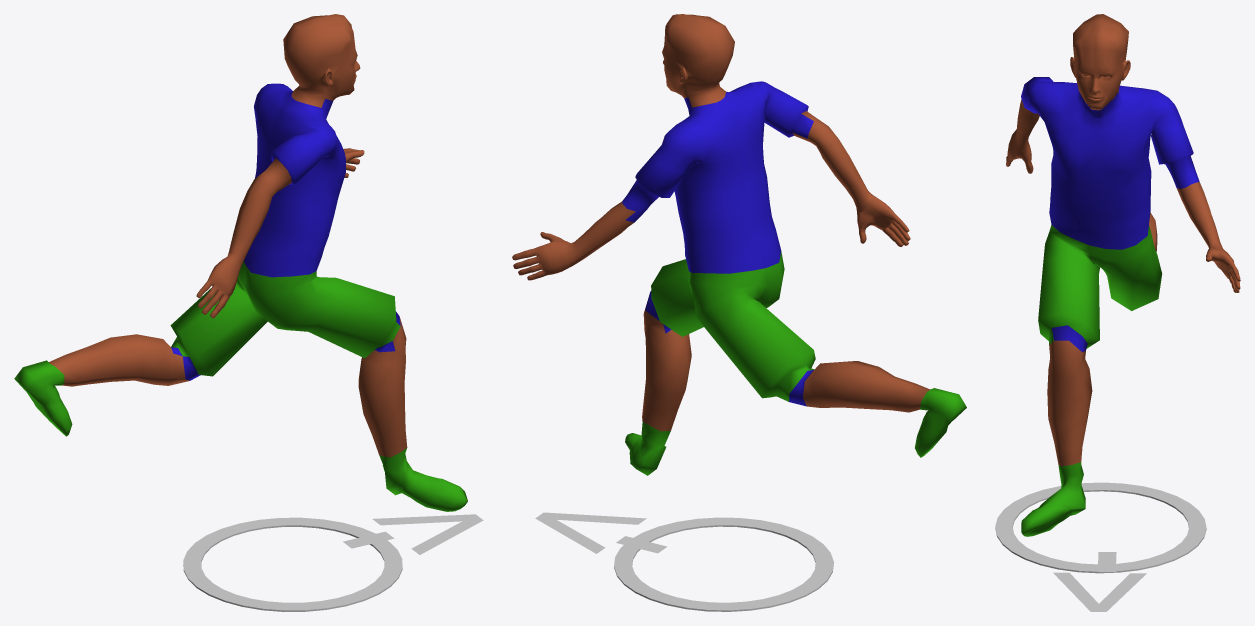
File: playerAI_000016.obj
3 views of the same model, side by side, from view 1: azimuth 30°, elevation 25°; view 2: azimuth 150°, elevation 25°; view 3: azimuth 270°, elevation 25° (orthographic). The views are drawn at different scales.
Parts seen in each view (by area): view 1: soccerplayer.003_mesh.002, Circle.001, Text_Mesh; view 2: soccerplayer.003_mesh.002, Circle.001, Text_Mesh; view 3: soccerplayer.003_mesh.002, Circle.001, Text_Mesh.
Boxes of the visible parts, x1=… form: soccerplayer.003_mesh.002: x1=14, y1=14, x2=467, y2=511; Circle.001: x1=183, y1=517, x2=402, y2=611; Text_Mesh: x1=343, y1=514, x2=483, y2=554; soccerplayer.003_mesh.002: x1=512, y1=14, x2=966, y2=475; Circle.001: x1=614, y1=517, x2=833, y2=611; Text_Mesh: x1=535, y1=512, x2=666, y2=553; soccerplayer.003_mesh.002: x1=1006, y1=14, x2=1240, y2=536; Circle.001: x1=995, y1=482, x2=1206, y2=573; Text_Mesh: x1=1053, y1=552, x2=1146, y2=611.
Bounding box in the file's own units: 2.52 × 2.95 × 1.26.
